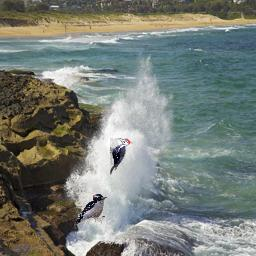Woodpecker: (74, 194, 107, 226), (110, 138, 133, 176)
